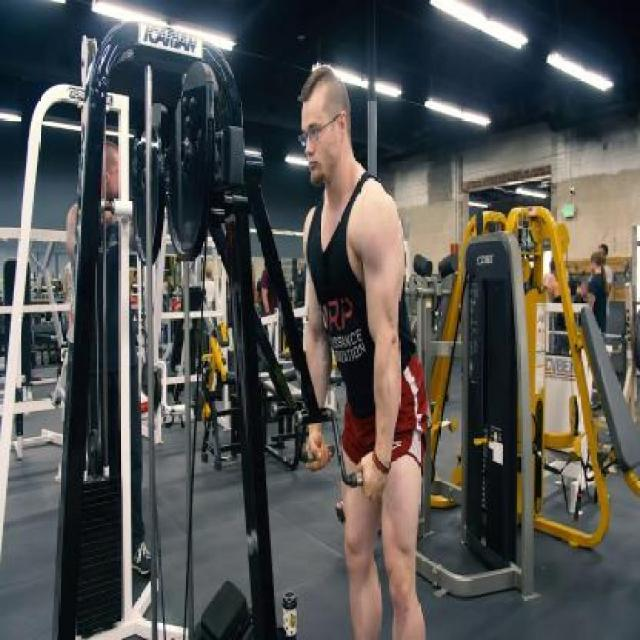lateral raises machine: (100, 20, 366, 640)
